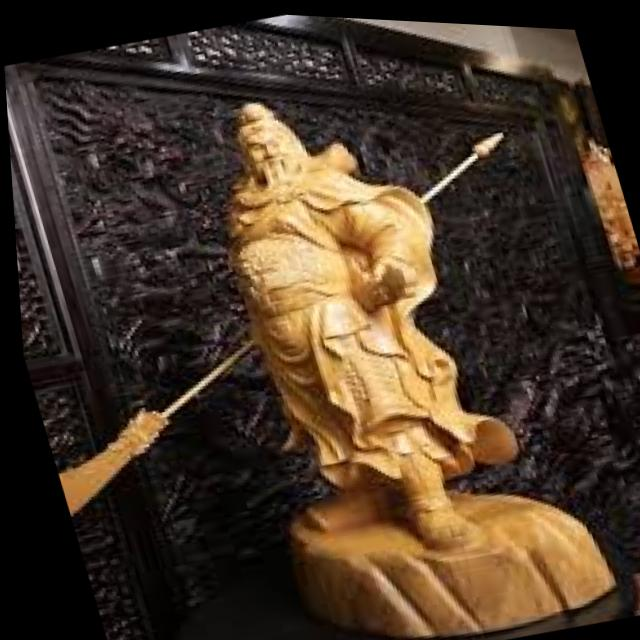Guan Yu: (181, 61, 473, 449)
